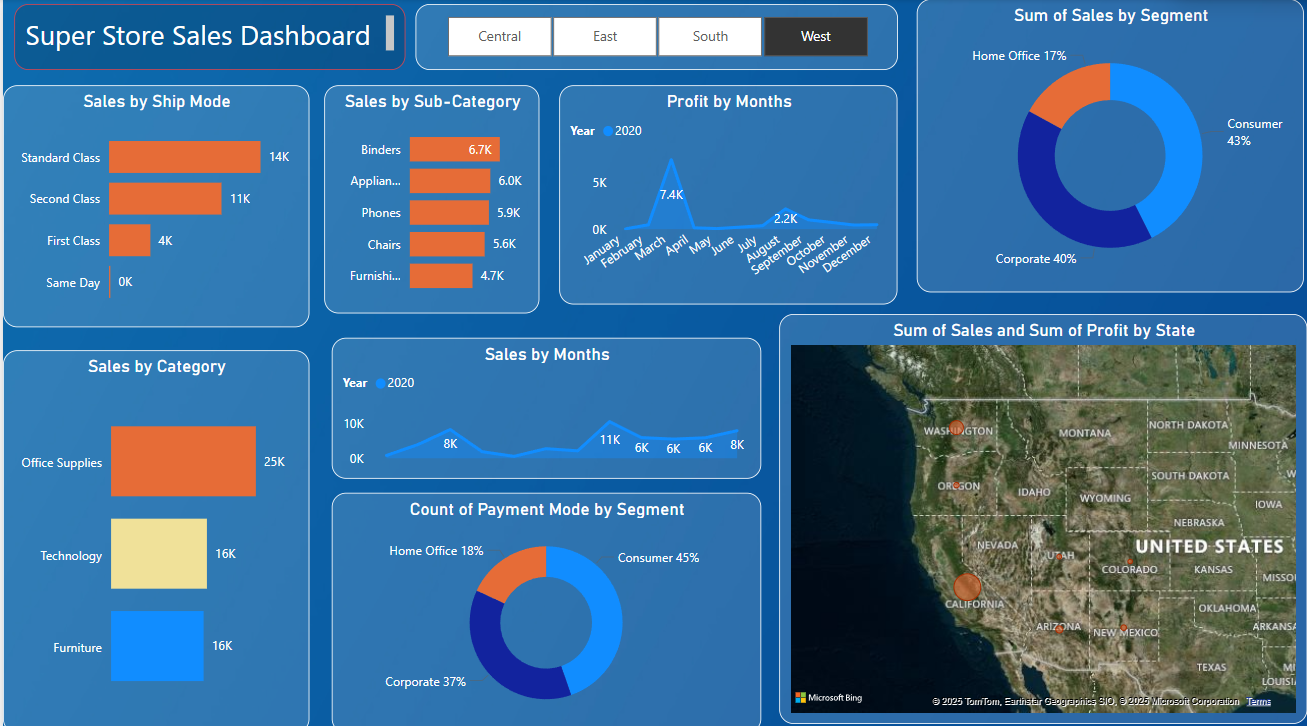

Layout of this report page (visuals, bound fields, positions):
{"tool":"powerbi","page":{"name":"Page 1","canvas":[1280,720],"ordinal":0},"visuals":[{"type":"clusteredBarChart","title":"Sales by Category","fields":{"Category":["Sheet1.Category"],"Y":["Sum(Sheet1.Sales)"]},"box":[0,344.4,300.5,376],"z":0},{"type":"clusteredBarChart","title":"Sales by Sub-Category","fields":{"Category":["Sheet1.Sub-Category"],"Y":["Sum(Sheet1.Sales)"]},"box":[315.6,85.1,211.3,223.7],"z":1000},{"type":"clusteredBarChart","title":"Sales by Ship Mode","fields":{"Category":["Sheet1.Ship Mode"],"Y":["Sum(Sheet1.Sales)"]},"box":[0,85.1,300.5,237.4],"z":2000},{"type":"stackedAreaChart","title":"Sales by Months","fields":{"Category":["Sheet1.Order Date.Variation.Date Hierarchy.Month","Sheet1.Order Date.Variation.Date Hierarchy.Day"],"Y":["Sum(Sheet1.Sales)"],"Series":["Sheet1.Order Date.Variation.Date Hierarchy.Year"]},"box":[322.5,332.1,421.3,138.6],"z":3000},{"type":"stackedAreaChart","title":"Profit by Months","fields":{"Category":["Sheet1.Order Date.Variation.Date Hierarchy.Month","Sheet1.Order Date.Variation.Date Hierarchy.Day"],"Series":["Sheet1.Order Date.Variation.Date Hierarchy.Year"],"Y":["Sum(Sheet1.Profit)"]},"box":[546.1,85.1,332.1,215.4],"z":4000},{"type":"map","fields":{"Category":["Sheet1.State"],"Size":["Sum(Sheet1.Sales)"]},"box":[761.6,308.7,518.7,402.1],"z":5000},{"type":"donutChart","fields":{"Category":["Sheet1.Segment"],"Y":["Sum(Sheet1.Sales)"]},"box":[897.4,0,380.1,288.2],"z":6000},{"type":"donutChart","fields":{"Category":["Sheet1.Segment"],"Y":["CountNonNull(Sheet1.Payment Mode)"]},"box":[322.5,484.4,421.3,236],"z":7000},{"type":"slicer","fields":{"Values":["Sheet1.Region"]},"box":[404.8,5.5,473.4,64.5],"z":8000},{"type":"textbox","box":[11,5.5,384.2,64.5],"z":9000}]}

Visuals, with their boxes in screenshot pixels (x1, y1, x2, y2), scaled from the page's 1280x720 canvas onto the 1307x726 screenshot:
"Sales by Category" clusteredBarChart: BBox(0, 347, 307, 725)
"Sales by Sub-Category" clusteredBarChart: BBox(322, 86, 538, 311)
"Sales by Ship Mode" clusteredBarChart: BBox(0, 86, 307, 325)
"Sales by Months" stackedAreaChart: BBox(329, 335, 759, 475)
"Profit by Months" stackedAreaChart: BBox(558, 86, 897, 303)
map - Sheet1.State x Sum(Sheet1.Sales): BBox(778, 311, 1306, 717)
donutChart - Sheet1.Segment x Sum(Sheet1.Sales): BBox(916, 0, 1304, 291)
donutChart - Sheet1.Segment x CountNonNull(Sheet1.Payment Mode): BBox(329, 488, 759, 725)
slicer - Sheet1.Region: BBox(413, 6, 897, 71)
textbox: BBox(11, 6, 404, 71)
